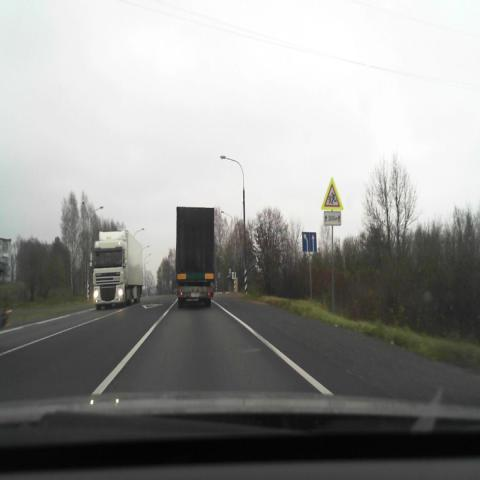8_2_1: (324, 212, 341, 226)
